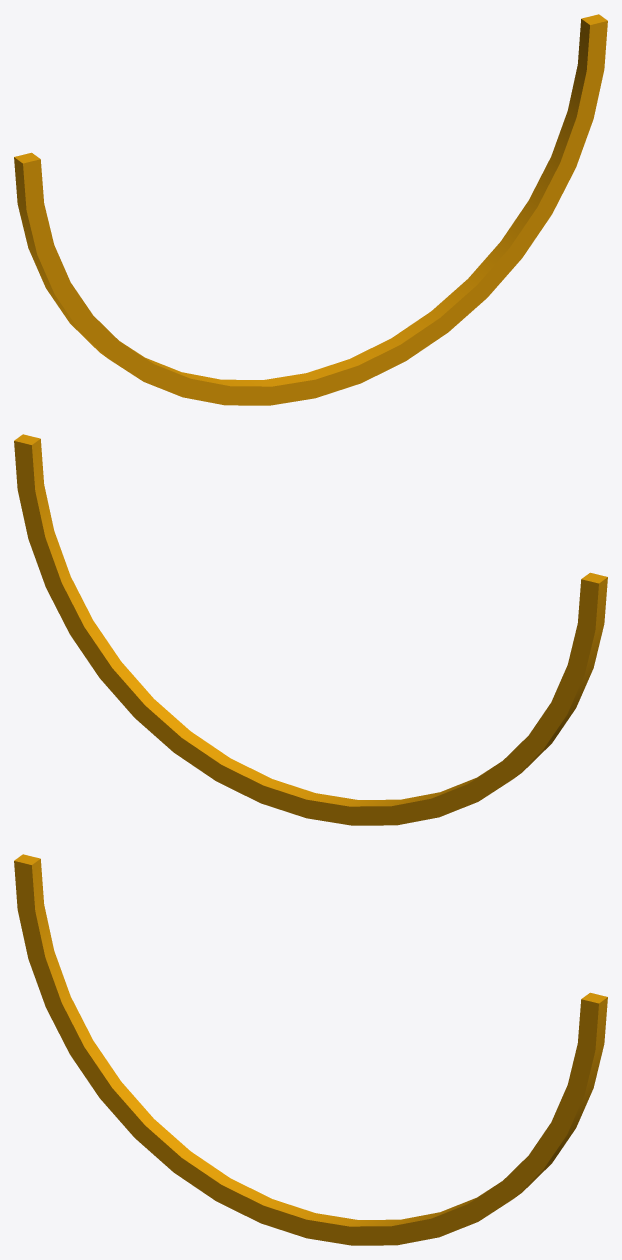
Rendered from L_Rope_A_04.fbx.
3 renders of one model, top to bottom at view 1: azimuth 30°, elevation 25°; view 2: azimuth 150°, elevation 25°; view 3: azimuth 330°, elevation 25°, orthographic.
Parts seen in each view (by area): view 1: L_Rope_A_04; view 2: L_Rope_A_04; view 3: L_Rope_A_04.
Boxes of the visible parts, box(x1,y1,x2,y2) form: L_Rope_A_04: box(14, 14, 607, 405); L_Rope_A_04: box(14, 434, 607, 825); L_Rope_A_04: box(14, 854, 607, 1245).
Bounding box in the file's own units: 273 × 136 × 7.22.
